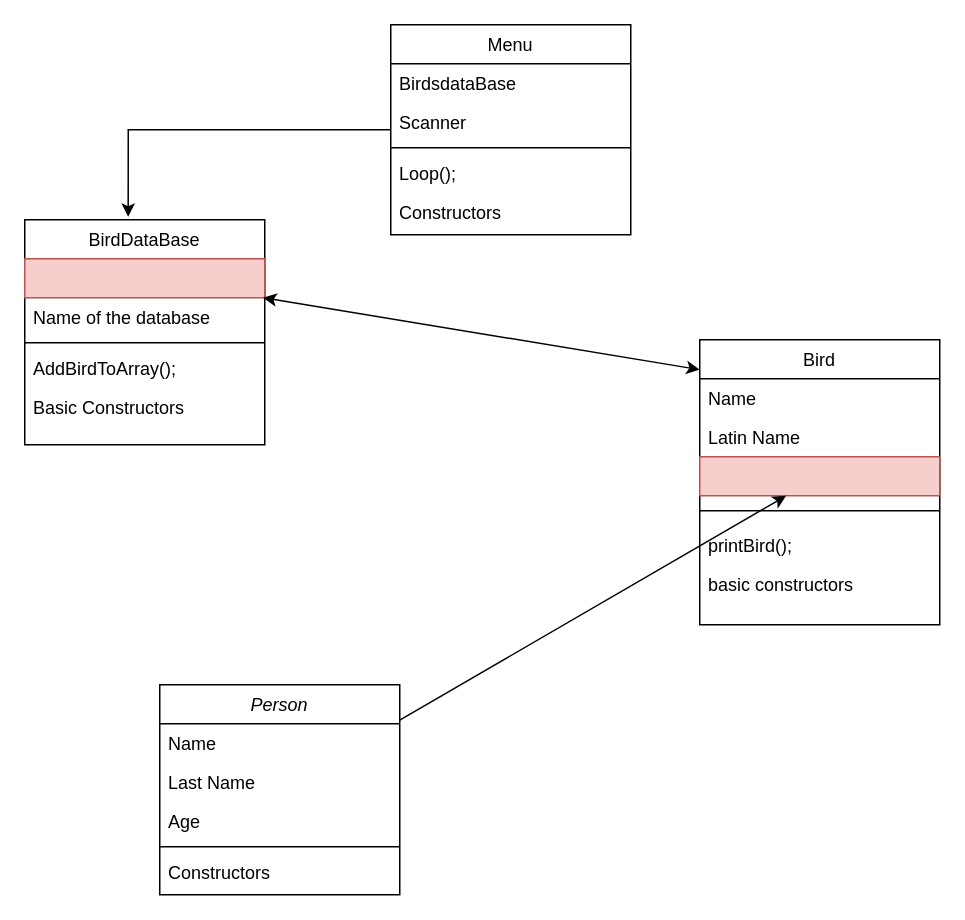
This 965x920 diagram has some shape labels left out. The shapes that lost their labels are listed below. From the top down, each one's centre as x and y in pixels, then its label:
the point at 144,277: List of Birds
the point at 819,475: Observations
